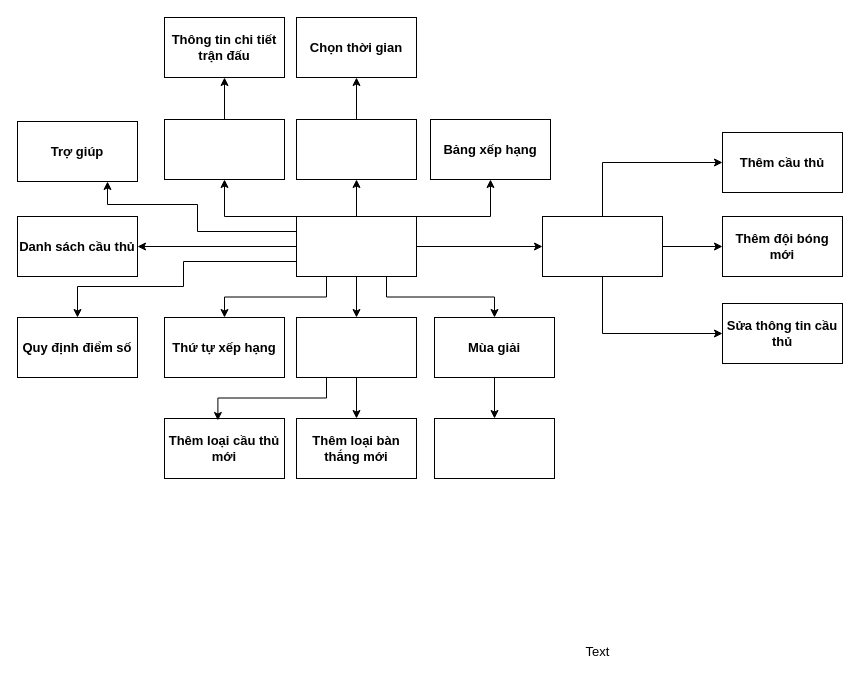
The diagram is 860 pixels wide and 679 high, and some of its shapes have lost their labels. Each missing label, with the box of its shape:
Hồ sơ đội bóng: (542, 216, 662, 276)
Kết quả thi đấu: (164, 118, 284, 180)
Lập lịch thi đấu: (296, 118, 416, 180)
Màn hình chính: (296, 216, 416, 276)
Quy định giải đấu: (296, 316, 416, 378)
Thêm mùa giải mới: (434, 418, 554, 478)
